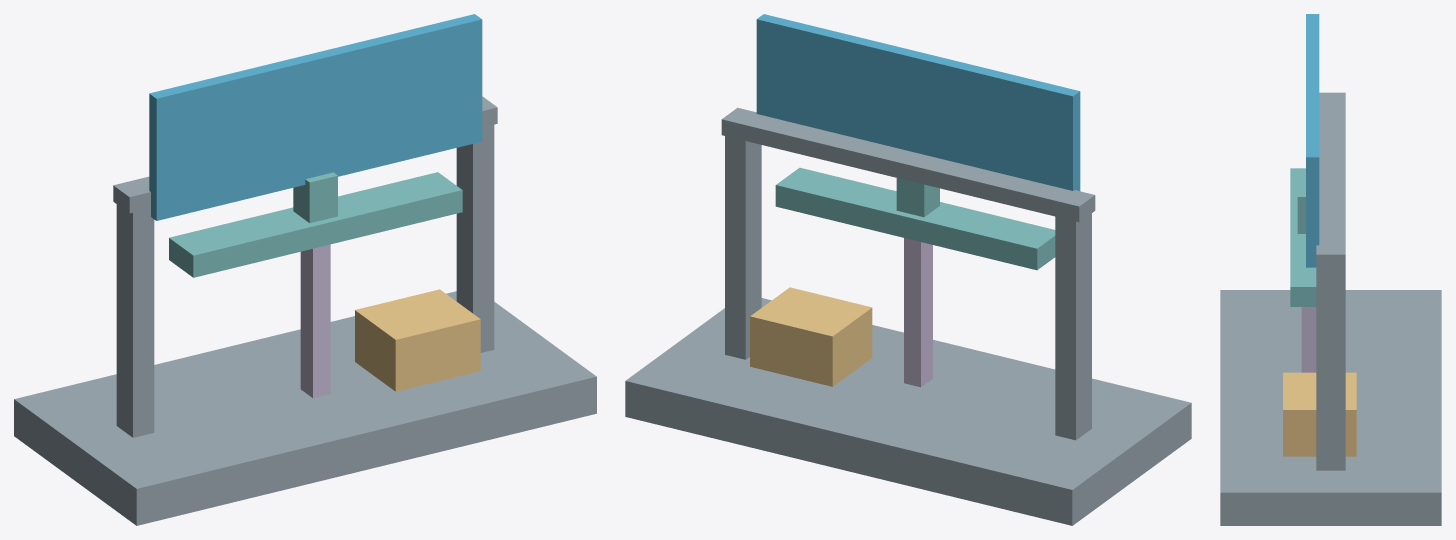
Rendered from assembly.glb.
3 renders of one model, left to right at view 1: azimuth 30°, elevation 25°; view 2: azimuth 150°, elevation 25°; view 3: azimuth 270°, elevation 25°, orthographic. The views are drawn at different scales.
Visible parts, largest first — view 1: base, plate, slider, module, left-support, right-support, linkage, slider-attachment, upper-rail; view 2: base, plate, slider, upper-rail, module, left-support, right-support, linkage, slider-attachment; view 3: base, right-support, upper-rail, module, plate, slider, linkage, slider-attachment.
Boxes of the visible parts, box(x1,y1,x2,y2) form: base: box(14, 291, 596, 525); plate: box(149, 14, 482, 220); slider: box(169, 172, 462, 277); module: box(355, 289, 480, 391); left-support: box(116, 196, 154, 437); right-support: box(456, 113, 494, 352); linkage: box(300, 244, 330, 398); slider-attachment: box(293, 172, 337, 222); upper-rail: box(113, 96, 497, 213); base: box(625, 298, 1191, 525); plate: box(756, 14, 1080, 190); slider: box(775, 167, 1055, 270); upper-rail: box(721, 107, 1095, 222); module: box(750, 287, 872, 386); left-support: box(1055, 205, 1091, 440); right-support: box(725, 124, 761, 359); linkage: box(904, 238, 932, 387); slider-attachment: box(896, 178, 939, 217); base: box(1220, 290, 1441, 525); right-support: box(1316, 269, 1345, 470); upper-rail: box(1316, 92, 1345, 269); module: box(1283, 372, 1356, 456); plate: box(1306, 14, 1319, 267); slider: box(1290, 168, 1316, 306); linkage: box(1301, 307, 1316, 372); slider-attachment: box(1297, 184, 1305, 233).
Bounding box in the file's own units: 6.5 × 5.08 × 3.
